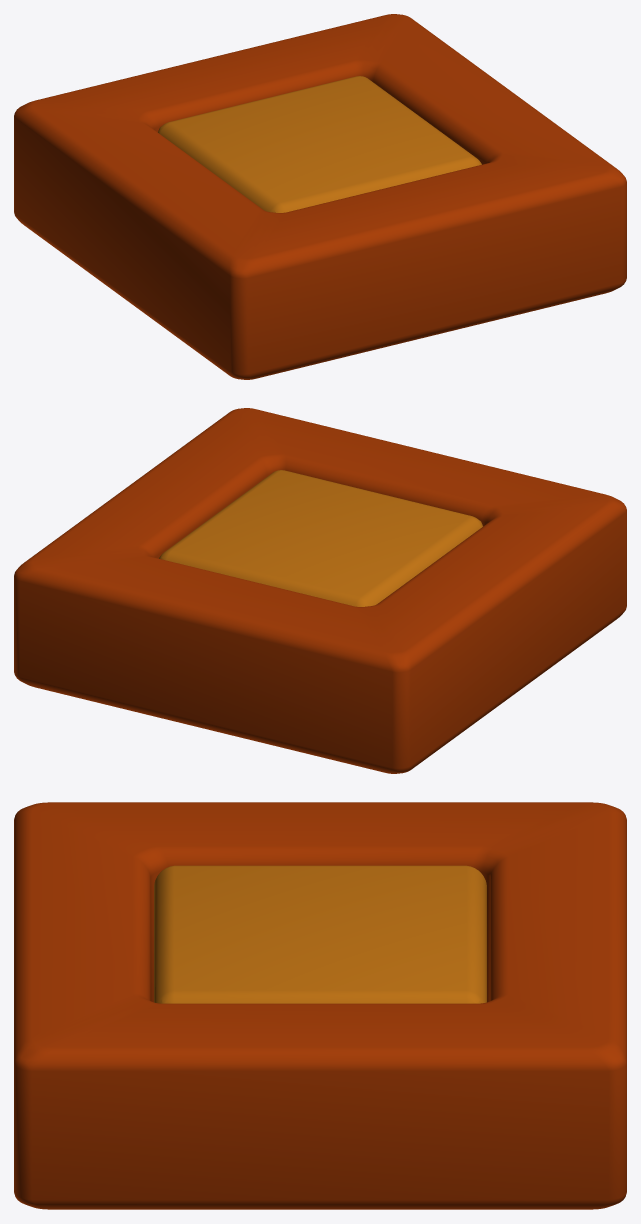
File: plat0.obj
3 renders of one model, top to bottom at view 1: azimuth 30°, elevation 25°; view 2: azimuth 150°, elevation 25°; view 3: azimuth 270°, elevation 25°, orthographic. The views are drawn at different scales.
Parts seen in each view (by area): view 1: Cube_Cube, Cube.001_Cube.001; view 2: Cube_Cube, Cube.001_Cube.001; view 3: Cube_Cube, Cube.001_Cube.001.
Part boxes in pixels (x1,y1,x2,y2): Cube_Cube: (14,14,626,379); Cube.001_Cube.001: (158,76,481,212); Cube_Cube: (14,408,626,773); Cube.001_Cube.001: (159,470,482,606); Cube_Cube: (14,802,626,1209); Cube.001_Cube.001: (154,865,486,1003).
Size of the model in its own units: 30.96 by 8.98 by 30.96.
